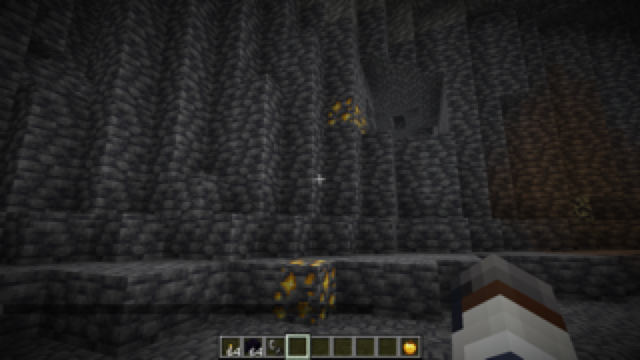gold: (272, 255, 339, 328), (324, 97, 368, 138)
